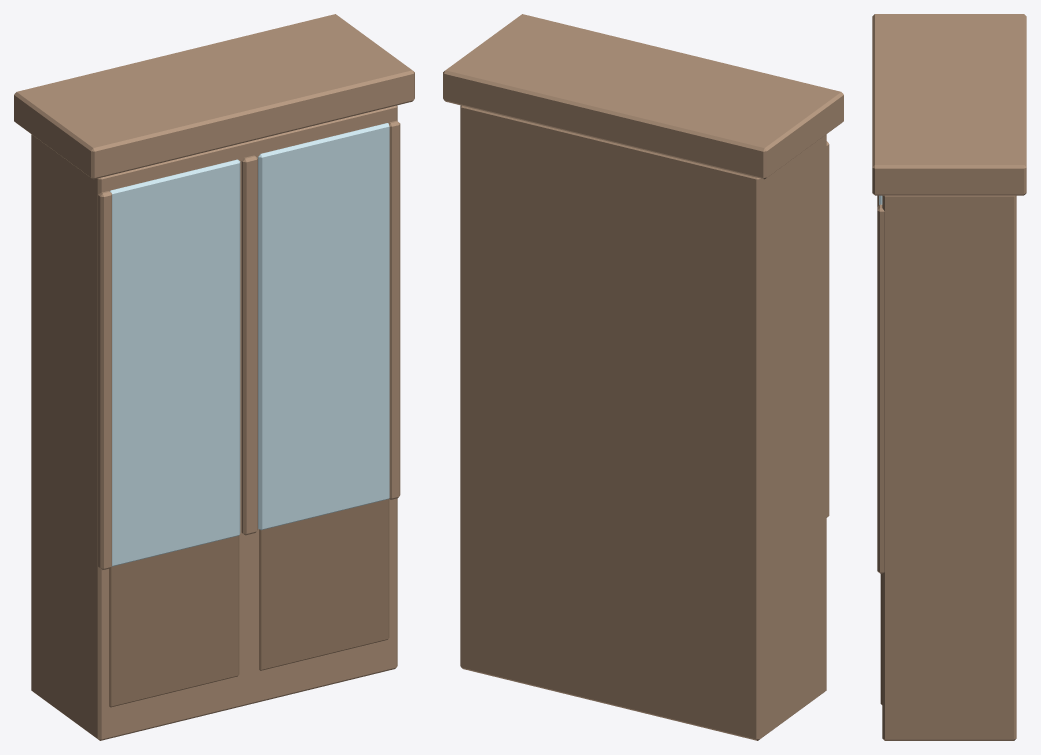
The model's file is SM_Display_Cabinet.fbx.
3 views of the same model, side by side, from view 1: azimuth 30°, elevation 25°; view 2: azimuth 150°, elevation 25°; view 3: azimuth 270°, elevation 25° (orthographic). The views are drawn at different scales.
Visible parts, largest first — view 1: Display_Cabinet; view 2: Display_Cabinet; view 3: Display_Cabinet.
Boxes of the visible parts, left/top/right/bottom form: Display_Cabinet: left=14, top=14, right=414, bottom=740; Display_Cabinet: left=443, top=14, right=843, bottom=740; Display_Cabinet: left=872, top=14, right=1026, bottom=740.
Bounding box in the file's own units: 108 × 191 × 46.
